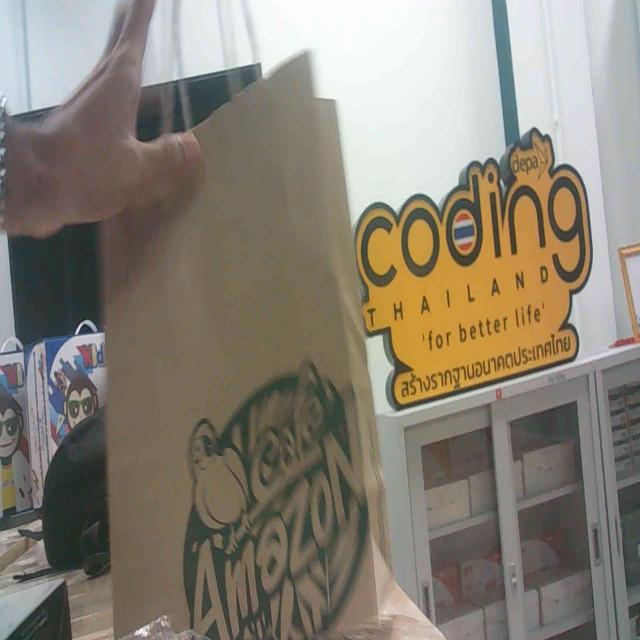bag: (124, 123, 375, 640)
